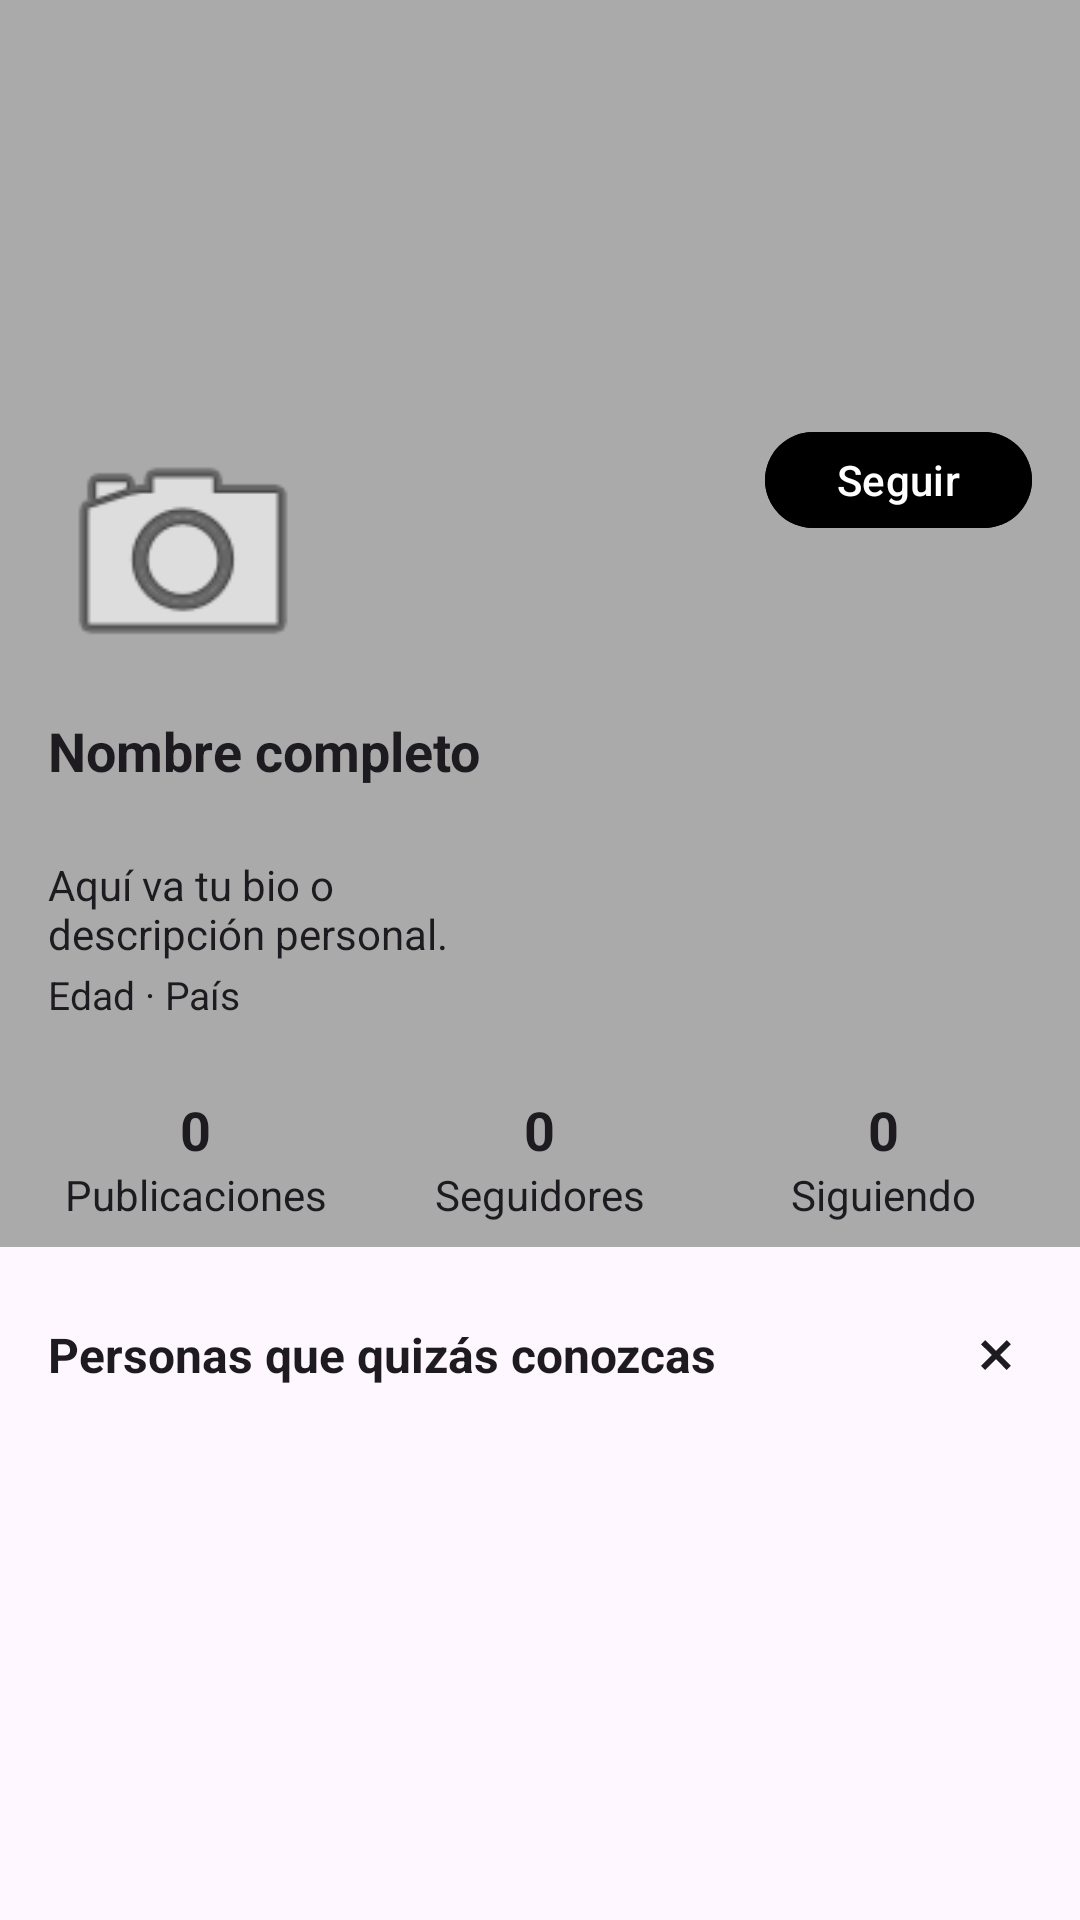

Icons on this 1080w x 1920h Android screen, each with the point to tap as [x,y]:
camera: [183,551]
Cerrar: [996,1355]
